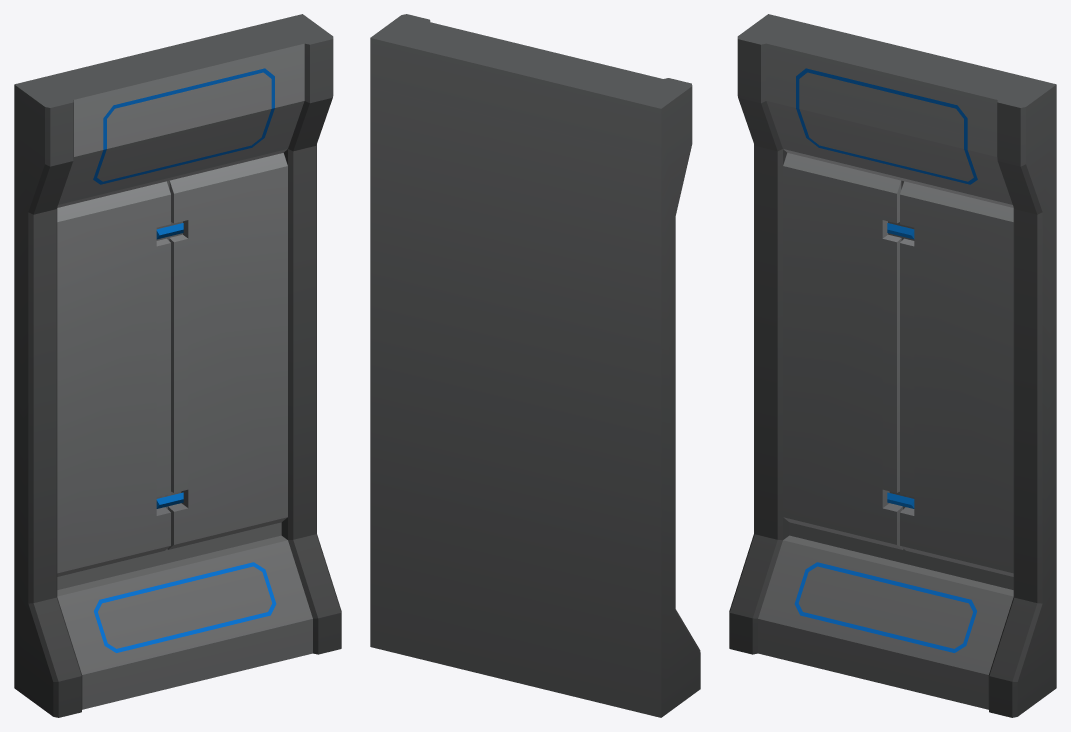
The model's file is Wall_type_B_007.fbx.
The picture shows the model from 3 angles, left to right: view 1: azimuth 30°, elevation 25°; view 2: azimuth 150°, elevation 25°; view 3: azimuth 330°, elevation 25°; orthographic projection.
Visible parts, largest first — view 1: Wall_type_B_007; view 2: Wall_type_B_007; view 3: Wall_type_B_007.
Part boxes in pixels (box(x1,y1,x2,y2)): Wall_type_B_007: box(14, 14, 341, 717); Wall_type_B_007: box(370, 14, 700, 717); Wall_type_B_007: box(729, 14, 1056, 717).
Bounding box in the file's own units: 200 × 50 × 400.
